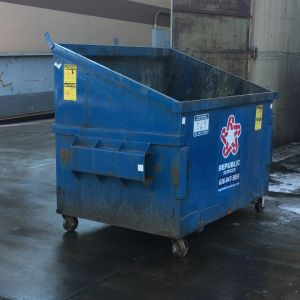Dumpster: (42, 29, 282, 260)
